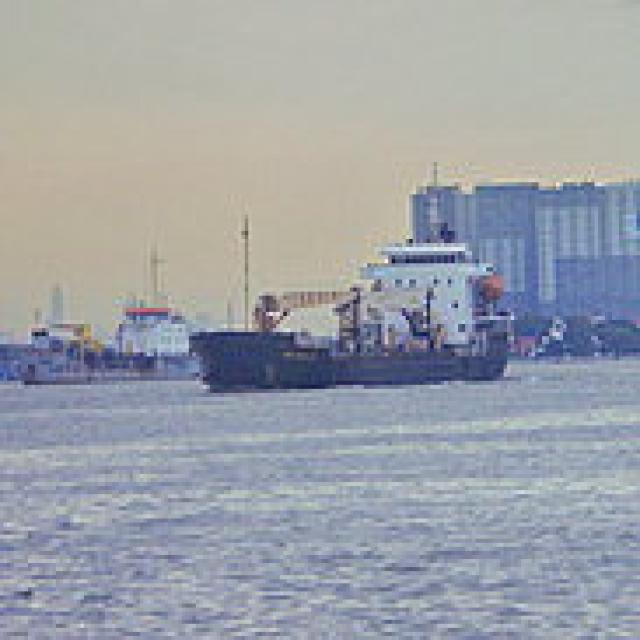Cargo: (178, 235, 514, 389), (14, 284, 196, 381)
